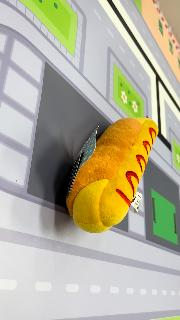hotdog: (65, 116, 159, 234)
